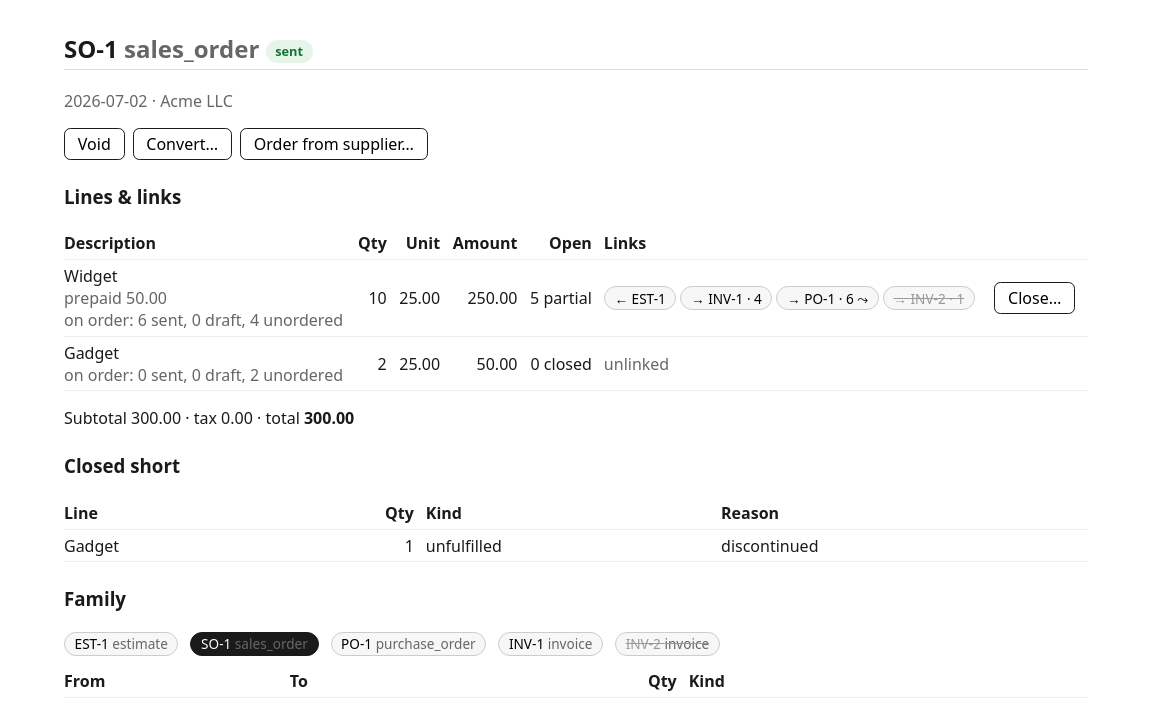
document links UI (ADR 0021) › closes a line short with kind and reason; the API error code surfaces
This screenshot has width=1152, height=703.
Click the button "Close…" at (1035, 298), box [994, 282, 1075, 314]
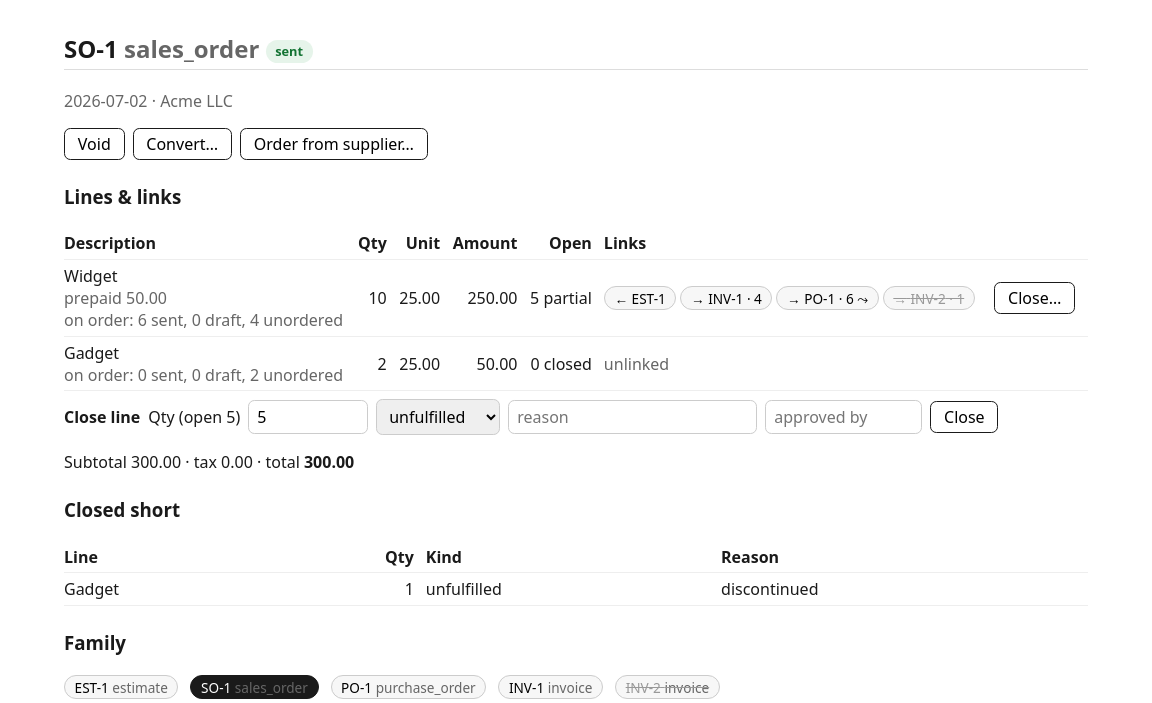
Replace the text in the field labelled "Qty (open 5)" with "9" at (308, 417), box [248, 400, 368, 434]
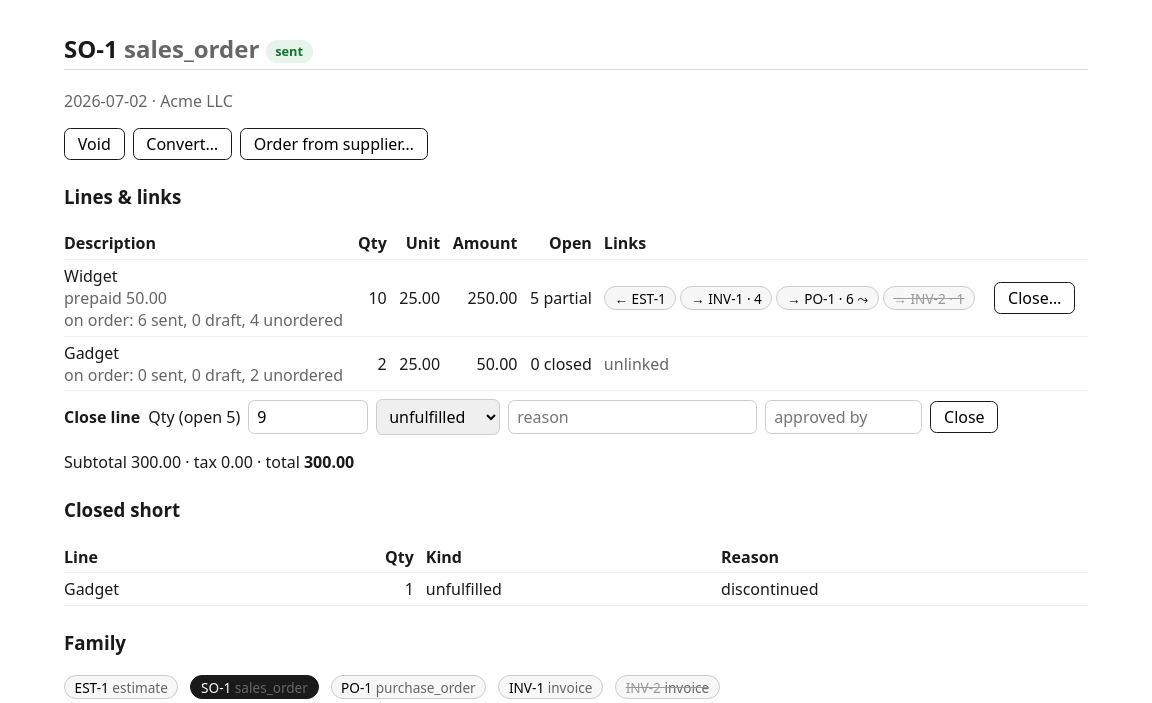
Click the button "Close" at (964, 417), box [930, 401, 998, 433]
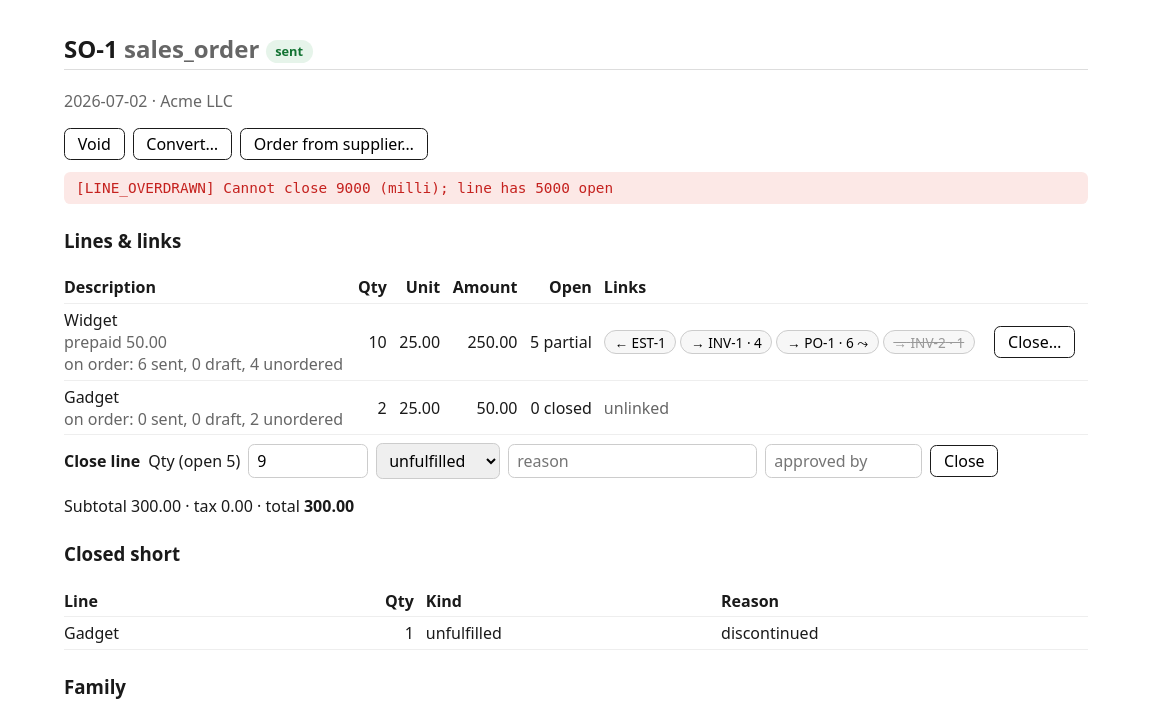
Expected: the text "[LINE_OVERDRAWN]" is shown, [76, 180, 613, 196]
